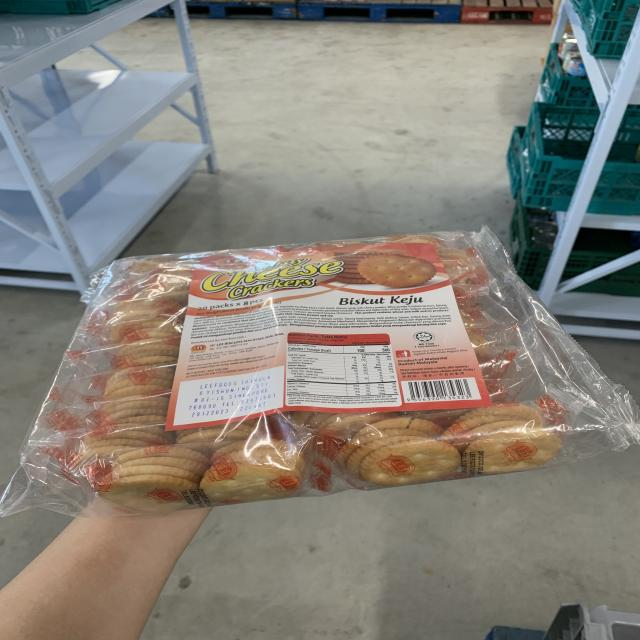object_name: (66, 259, 560, 486)
